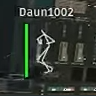hacks_2: (18, 7, 74, 78)
